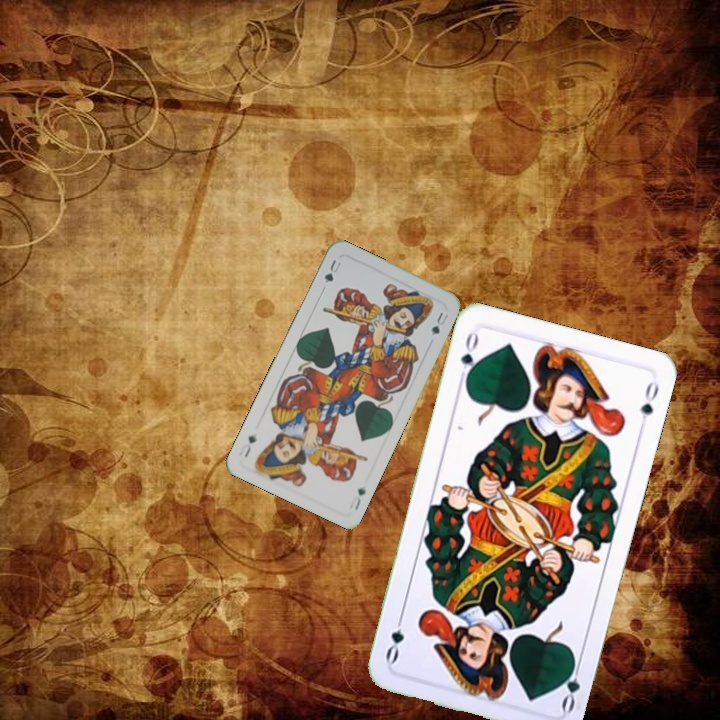GO: (556, 654, 584, 714), (454, 328, 482, 386)
GU: (320, 255, 344, 286), (345, 484, 369, 513)
